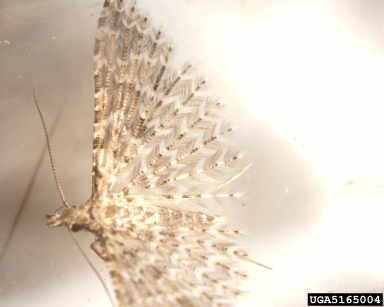Alucitidae: (31, 1, 276, 307)
moth: (29, 1, 274, 307)
